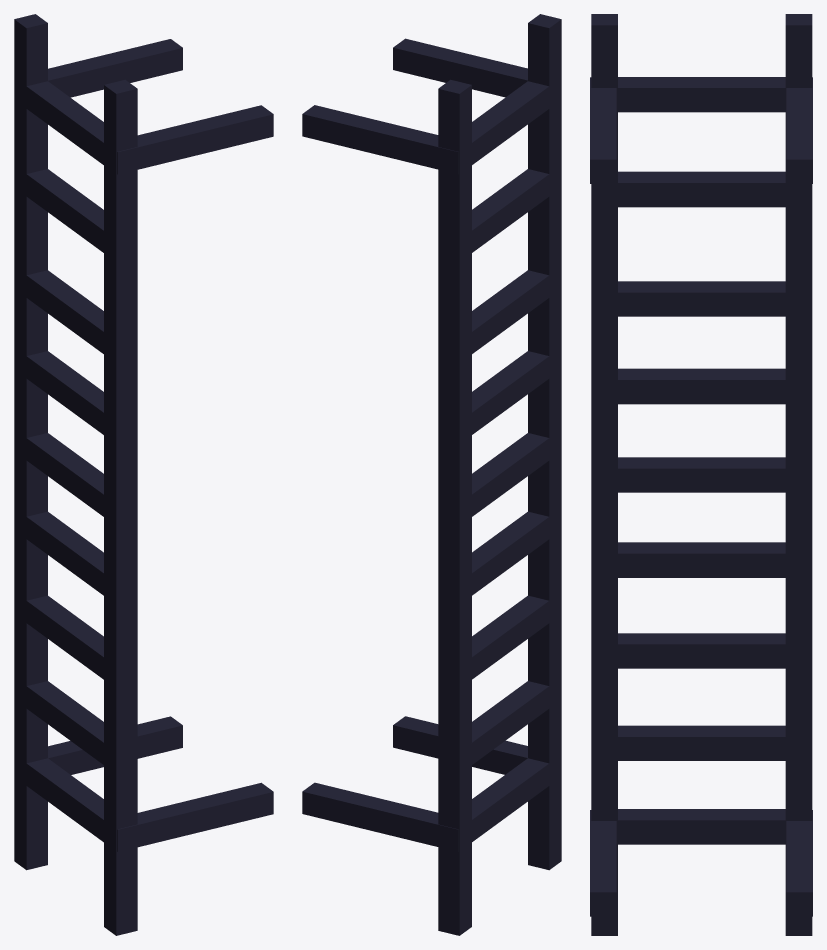
File: Feuerleiter.fbx
3 views of the same model, side by side, from view 1: azimuth 30°, elevation 25°; view 2: azimuth 150°, elevation 25°; view 3: azimuth 270°, elevation 25° (orthographic). The views are drawn at different scales.
Parts seen in each view (by area): view 1: pCube3, pCube4, pCube14, pCube16, pCube15, pCube11, pCube10, pCube8, pCube5, pCube9, pCube6, pCube7 (+3 smaller); view 2: pCube4, pCube3, pCube17, pCube15, pCube14, pCube13, pCube9, pCube11, pCube10, pCube6, pCube8, pCube5 (+3 smaller); view 3: pCube4, pCube3, pCube11, pCube10, pCube8, pCube6, pCube7, pCube12, pCube13, pCube9, pCube5, pCube16 (+3 smaller).
Part boxes in pixels (box(x1,y1,x2,y2)): pCube3: box(104, 79, 137, 935); pCube4: box(14, 14, 47, 870); pCube14: box(117, 105, 273, 174); pCube16: box(117, 782, 273, 851); pCube15: box(48, 39, 182, 97); pCube11: box(20, 351, 110, 434); pCube10: box(20, 169, 110, 252); pCube8: box(20, 595, 110, 679); pCube5: box(20, 81, 109, 164); pCube9: box(20, 758, 103, 842); pCube6: box(20, 270, 109, 353); pCube7: box(20, 433, 109, 516); pCube4: box(438, 79, 471, 935); pCube3: box(528, 14, 561, 870); pCube17: box(302, 782, 458, 851); pCube15: box(302, 105, 458, 174); pCube14: box(393, 38, 527, 97); pCube13: box(466, 681, 553, 769); pCube9: box(466, 758, 556, 846); pCube11: box(466, 351, 549, 439); pCube10: box(466, 169, 549, 257); pCube6: box(466, 270, 549, 358); pCube8: box(466, 595, 549, 683); pCube5: box(466, 81, 549, 168); pCube4: box(785, 14, 812, 935); pCube3: box(591, 14, 617, 935); pCube11: box(603, 368, 797, 404); pCube10: box(603, 171, 797, 207); pCube8: box(603, 633, 797, 668); pCube6: box(603, 281, 797, 316); pCube7: box(603, 457, 797, 492); pCube12: box(603, 542, 797, 577); pCube13: box(603, 725, 797, 760); pCube9: box(603, 809, 797, 844); pCube5: box(616, 77, 786, 112); pCube16: box(590, 810, 616, 916).
Bounding box in the file's own units: 101 × 518 × 115.
